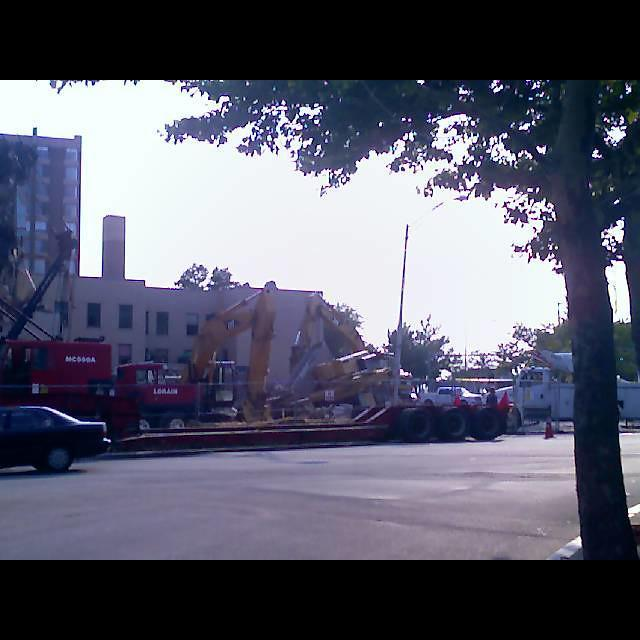Excavator: (168, 280, 281, 426), (289, 291, 416, 412)
NO-Hardhat: (489, 387, 495, 392)
Person: (486, 387, 498, 407)
Safety Cone: (545, 418, 554, 439), (502, 391, 510, 408), (454, 391, 462, 407)
dump truck: (494, 352, 640, 431)
sedan: (0, 405, 113, 474)
truck: (419, 386, 483, 408)
